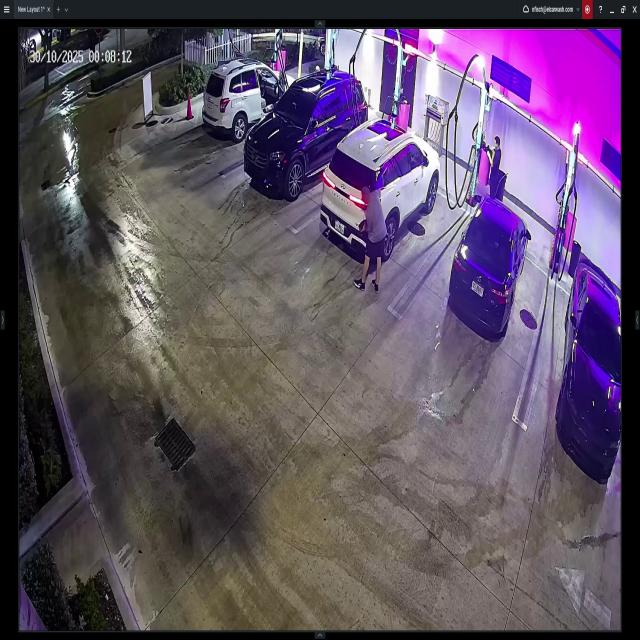Car: (323, 119, 443, 260), (557, 249, 622, 484), (245, 74, 368, 194), (448, 193, 530, 334), (203, 58, 295, 142), (316, 32, 329, 55)
